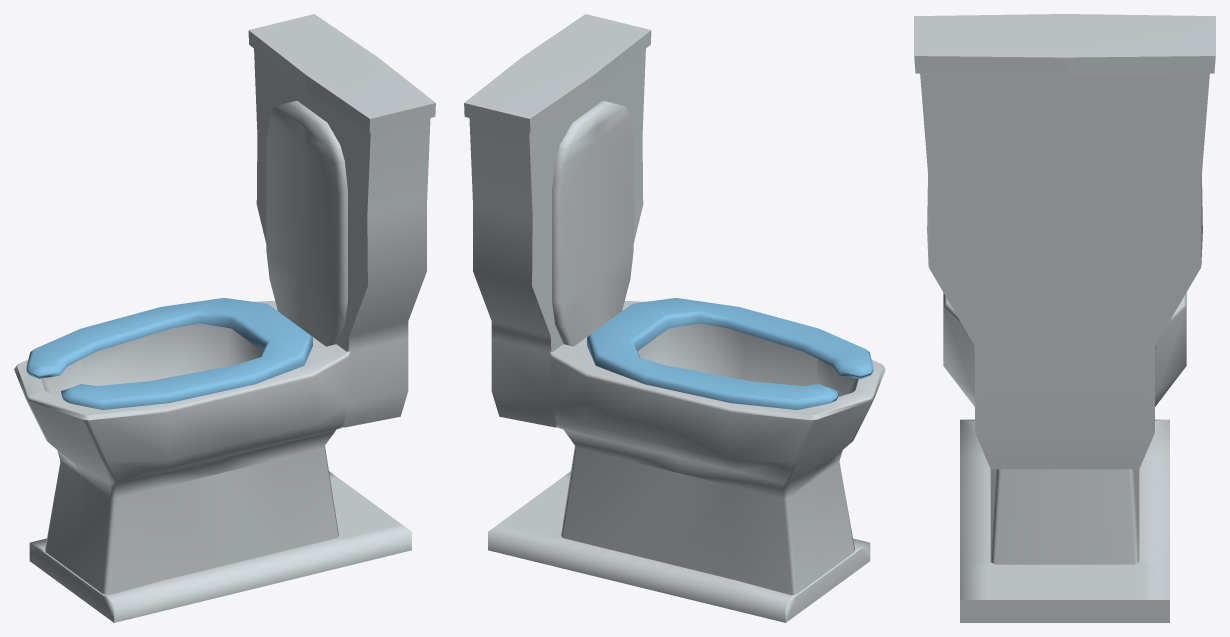
File: Toilet (1).fbx
3 renders of one model, left to right at view 1: azimuth 30°, elevation 25°; view 2: azimuth 150°, elevation 25°; view 3: azimuth 270°, elevation 25°, orthographic. The views are drawn at different scales.
Visible parts, largest first — view 1: polySurface21; view 2: polySurface21; view 3: polySurface21.
Boxes of the visible parts, x1=… form: polySurface21: x1=14, y1=14, x2=435, y2=622; polySurface21: x1=464, y1=14, x2=885, y2=622; polySurface21: x1=914, y1=14, x2=1215, y2=622.
Bounding box in the file's own units: 584 × 731 × 350.
